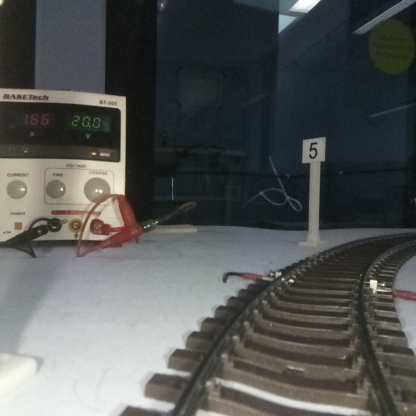white-info-5: (302, 137, 324, 246)
